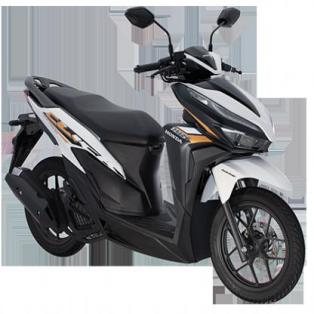Motocicleta: (7, 1, 313, 306)
